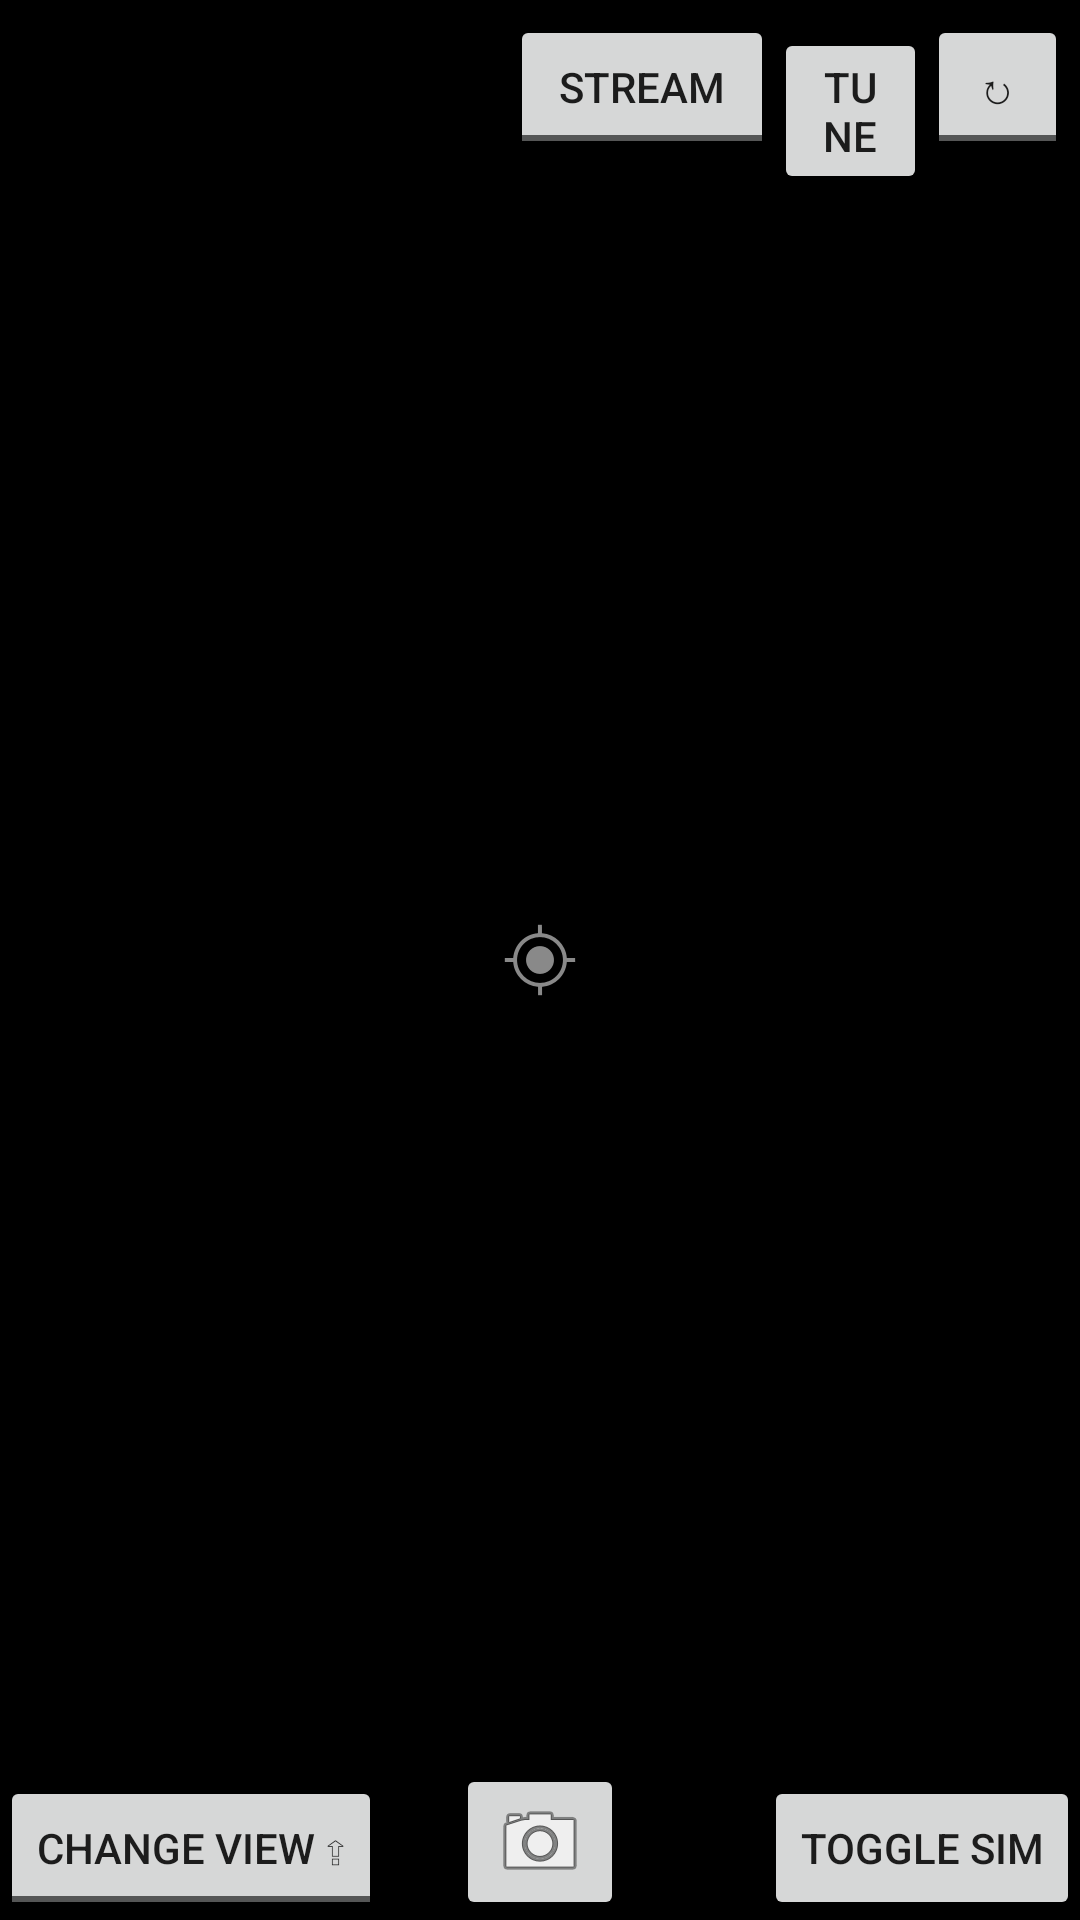

Where to tap for icons on this 1080x1920 app screen, as point (x, y):
camera: point (540, 1842)
mylocation: point (540, 960)
